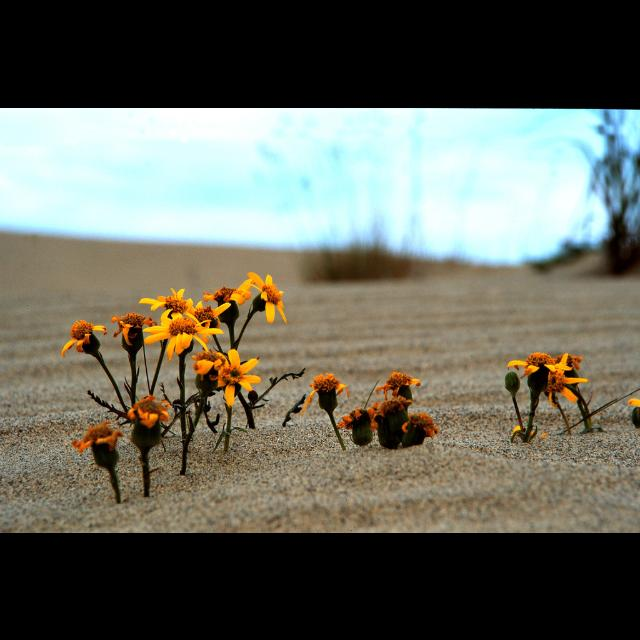Flower: (140, 315, 224, 365), (194, 353, 256, 411), (541, 357, 589, 408), (298, 371, 349, 413), (247, 270, 287, 322), (58, 320, 108, 358), (70, 419, 124, 453), (109, 310, 157, 348), (507, 352, 569, 380), (137, 286, 191, 318), (202, 277, 255, 307), (126, 396, 170, 430), (335, 400, 377, 434), (376, 370, 418, 400), (400, 409, 438, 438), (374, 392, 412, 418)
